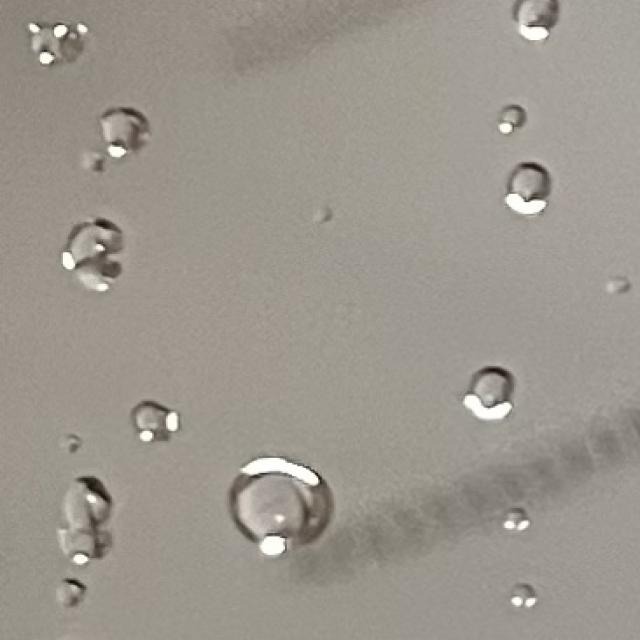raindrop: (230, 454, 324, 564), (51, 473, 125, 578), (53, 212, 135, 300), (18, 18, 92, 72), (456, 359, 526, 415), (122, 391, 179, 454), (104, 101, 156, 162), (503, 165, 558, 221), (500, 0, 570, 41), (490, 99, 542, 146), (496, 507, 542, 545), (505, 578, 545, 616), (78, 145, 117, 181), (52, 574, 89, 607), (598, 271, 634, 293), (59, 434, 92, 456)
